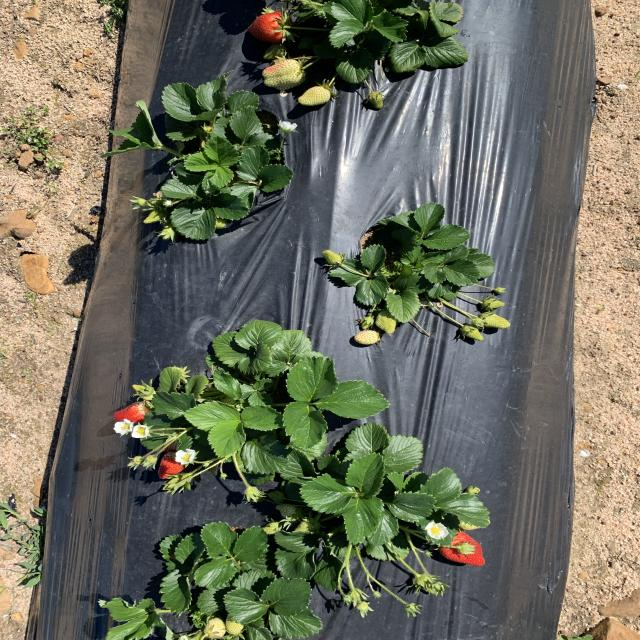unripe: (428, 530, 488, 568), (246, 8, 298, 41), (114, 401, 157, 425), (156, 452, 192, 480)
